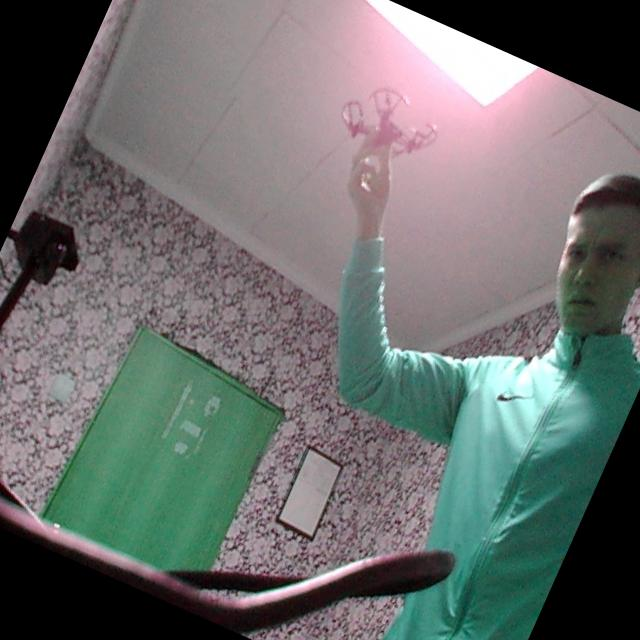drone: (323, 63, 458, 182)
